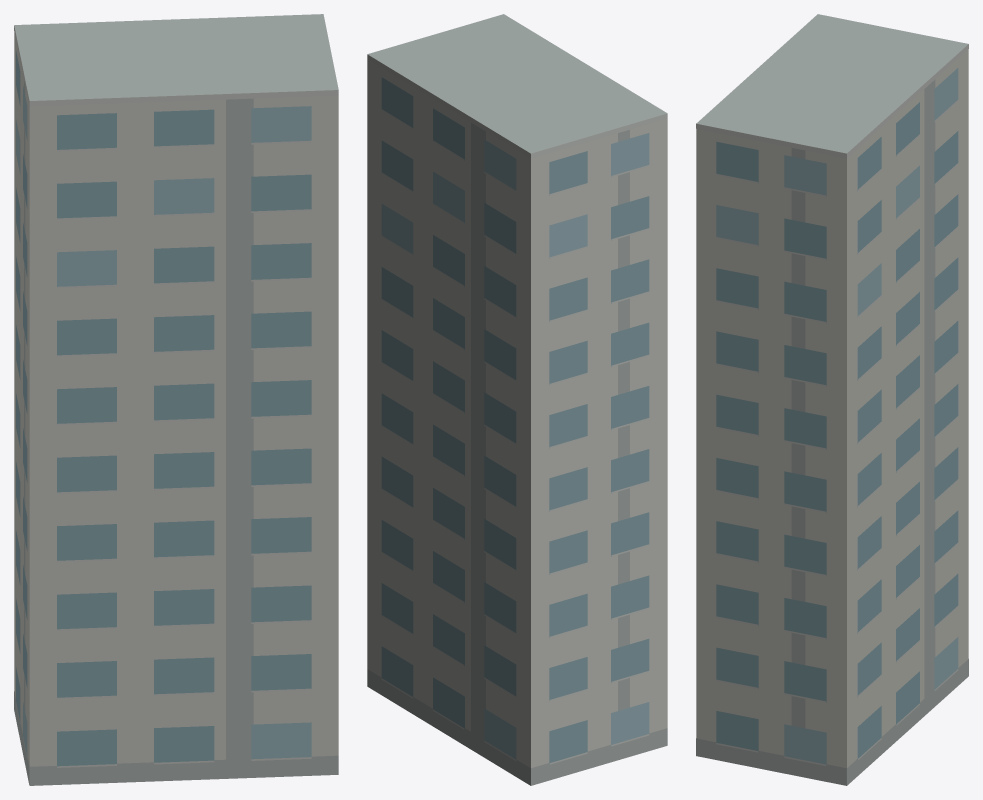
File: residential-a5e03416-efef-4945-81a5-7cf2a528512b.glb
3 views of the same model, side by side, from view 1: azimuth 30°, elevation 25°; view 2: azimuth 150°, elevation 25°; view 3: azimuth 270°, elevation 25° (orthographic). The views are drawn at different scales.
Visible parts, largest first — view 1: residential-a5e03416-efef-4945-81a5-7cf2a528512b.tmp; view 2: residential-a5e03416-efef-4945-81a5-7cf2a528512b.tmp; view 3: residential-a5e03416-efef-4945-81a5-7cf2a528512b.tmp.
Boxes of the visible parts, left/top/right/bottom form: residential-a5e03416-efef-4945-81a5-7cf2a528512b.tmp: left=14, top=14, right=338, bottom=785; residential-a5e03416-efef-4945-81a5-7cf2a528512b.tmp: left=367, top=14, right=667, bottom=785; residential-a5e03416-efef-4945-81a5-7cf2a528512b.tmp: left=696, top=14, right=968, bottom=785.
Size of the model in its own units: 14.21 by 30 by 11.73.
